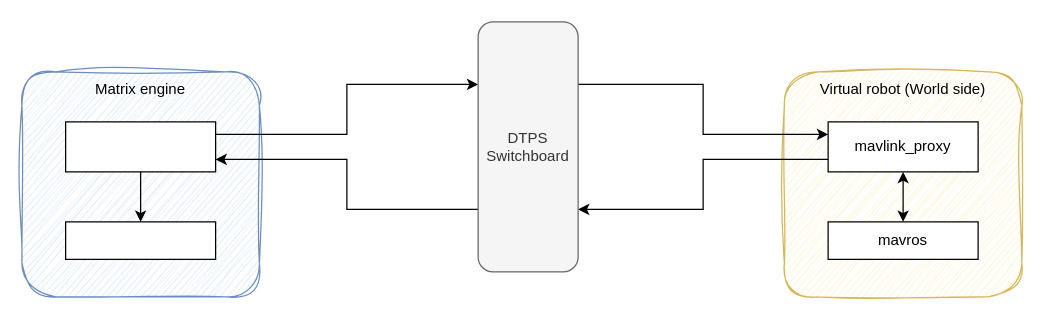
The diagram is 1044 pixels wide and 319 high, and some of its shapes have lost their labels. Each missing label, with the box of its shape:
DD24RobotEntity: (64, 121, 216, 172)
PX4Multirotor: (64, 221, 216, 259)
